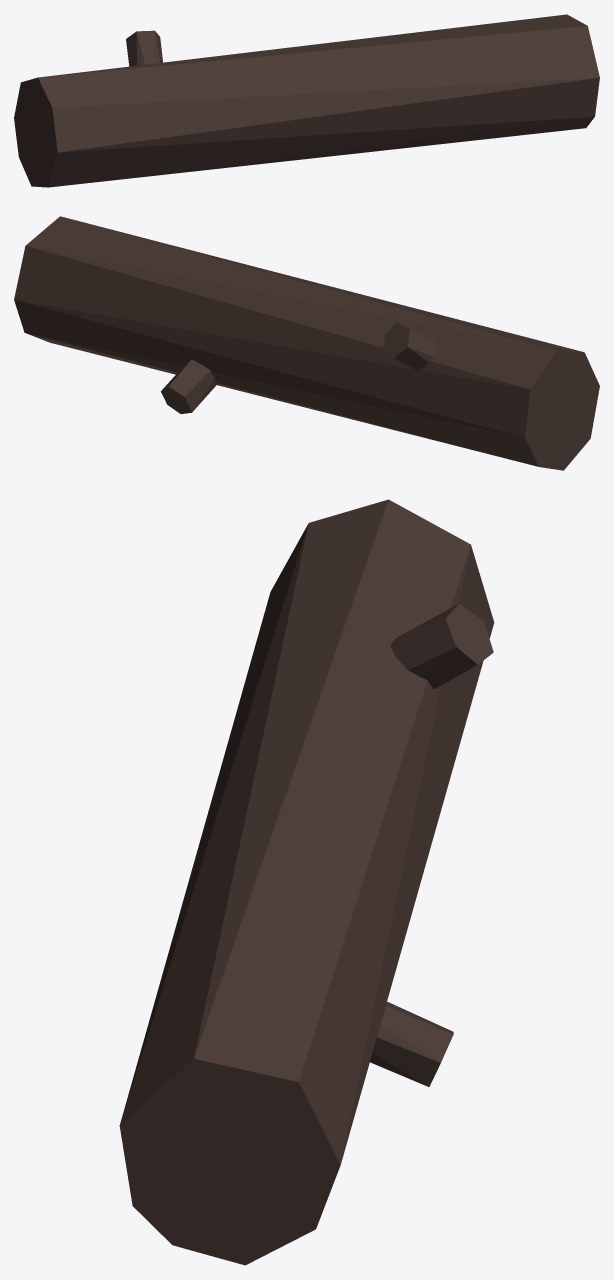
File: singlelog.fbx
3 views of the same model, one above another, from view 1: azimuth 30°, elevation 25°; view 2: azimuth 150°, elevation 25°; view 3: azimuth 270°, elevation 25° (orthographic). The views are drawn at different scales.
Visible parts, largest first — view 1: Cylinder.001; view 2: Cylinder.001; view 3: Cylinder.001.
Part boxes in pixels (left/top/right/bottom): Cylinder.001: left=14, top=14, right=599, bottom=187; Cylinder.001: left=14, top=216, right=599, bottom=470; Cylinder.001: left=119, top=499, right=494, bottom=1265.
Size of the model in its own units: 132 by 35.44 by 41.52.
